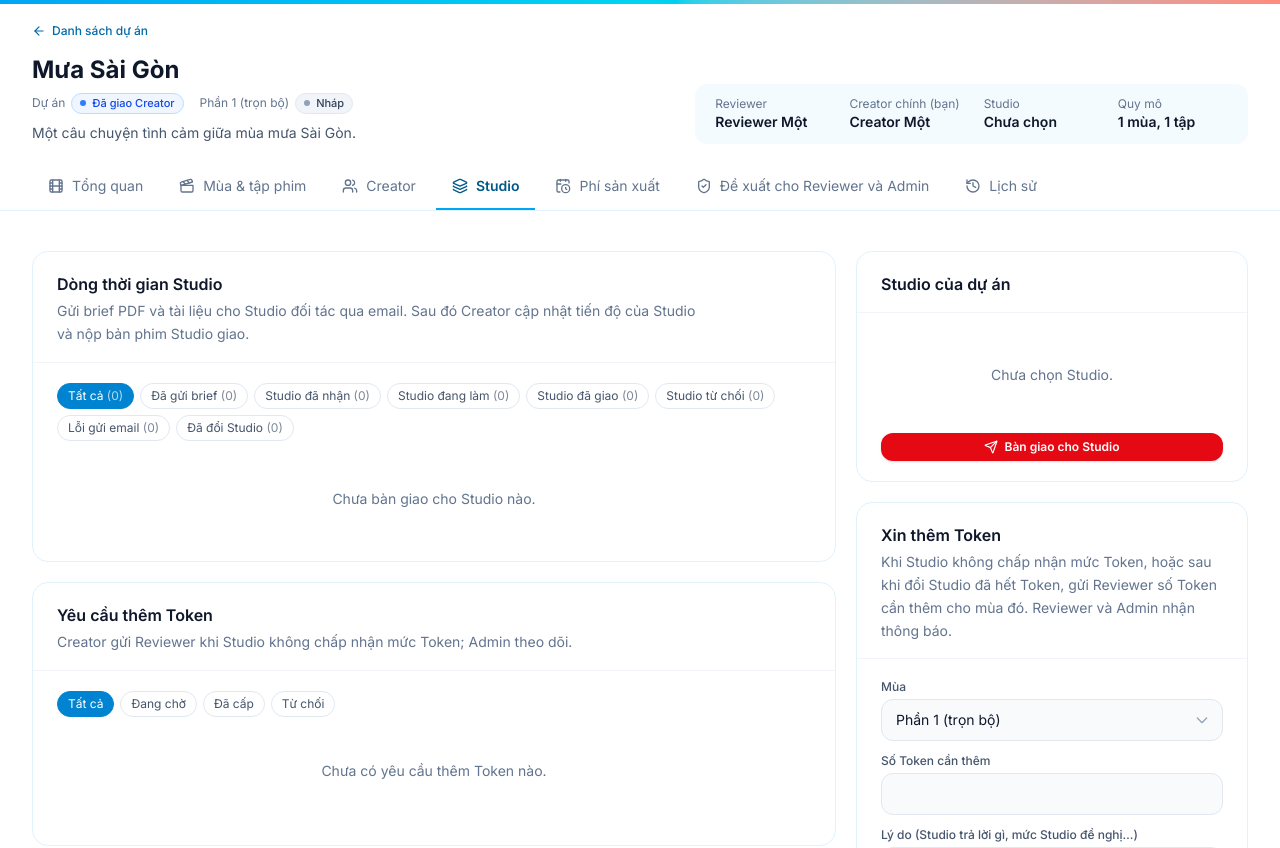
Test: ProjectDetailPage › offers the assigned Creator the studio hand-off, with the studio typed by hand
Click the button "Bàn giao cho Studio" at (1052, 447), box [881,433,1223,461]
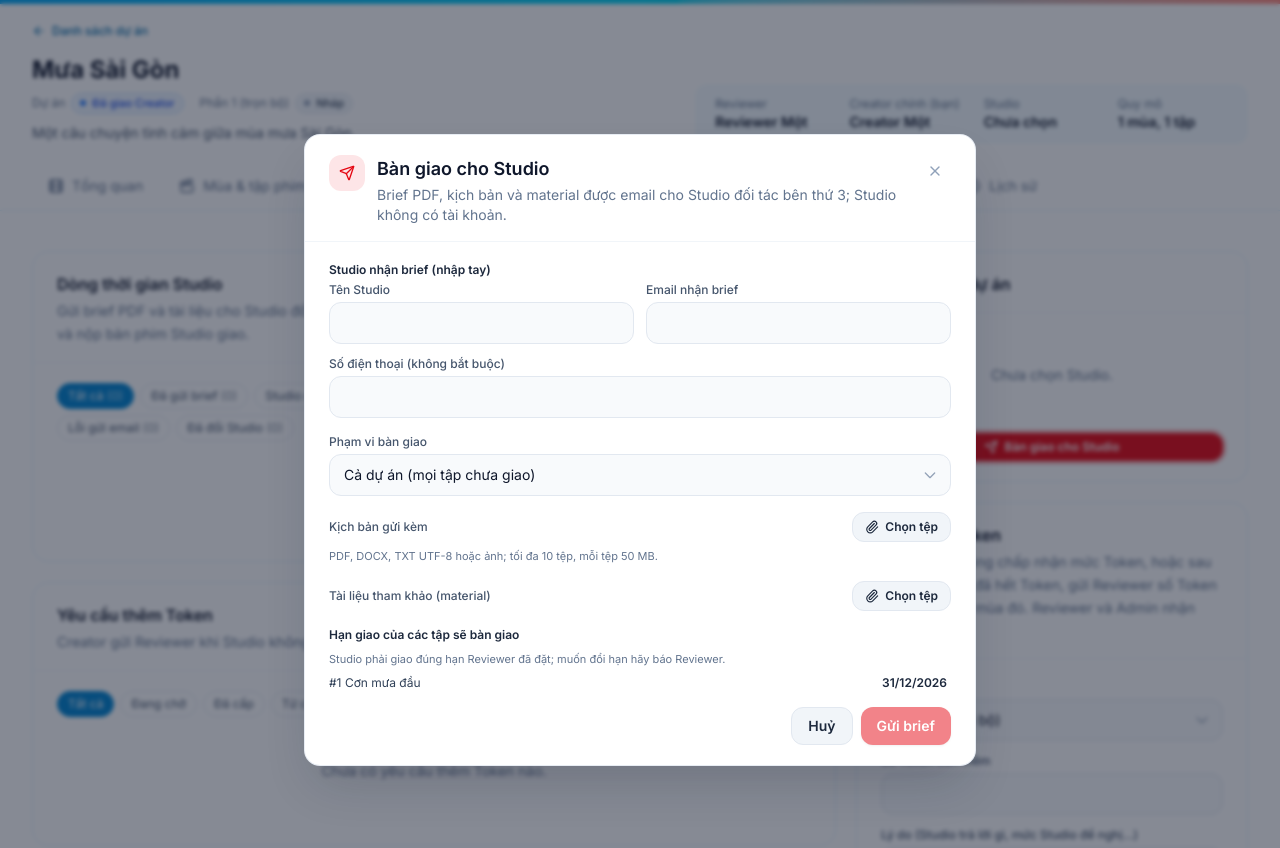
expect the dialog shows "Hạn giao của các tập sẽ bàn giao": met, box [329,626,519,642]
expect the dialog shows "31/12/2026": met, box [882,675,947,690]
expect the button "Gửi brief" is disabled: met, box [860,707,951,745]
Type "Studio Ánh Trăng" into the field labelled "Tên Studio" at (482, 323), box [329,302,634,344]
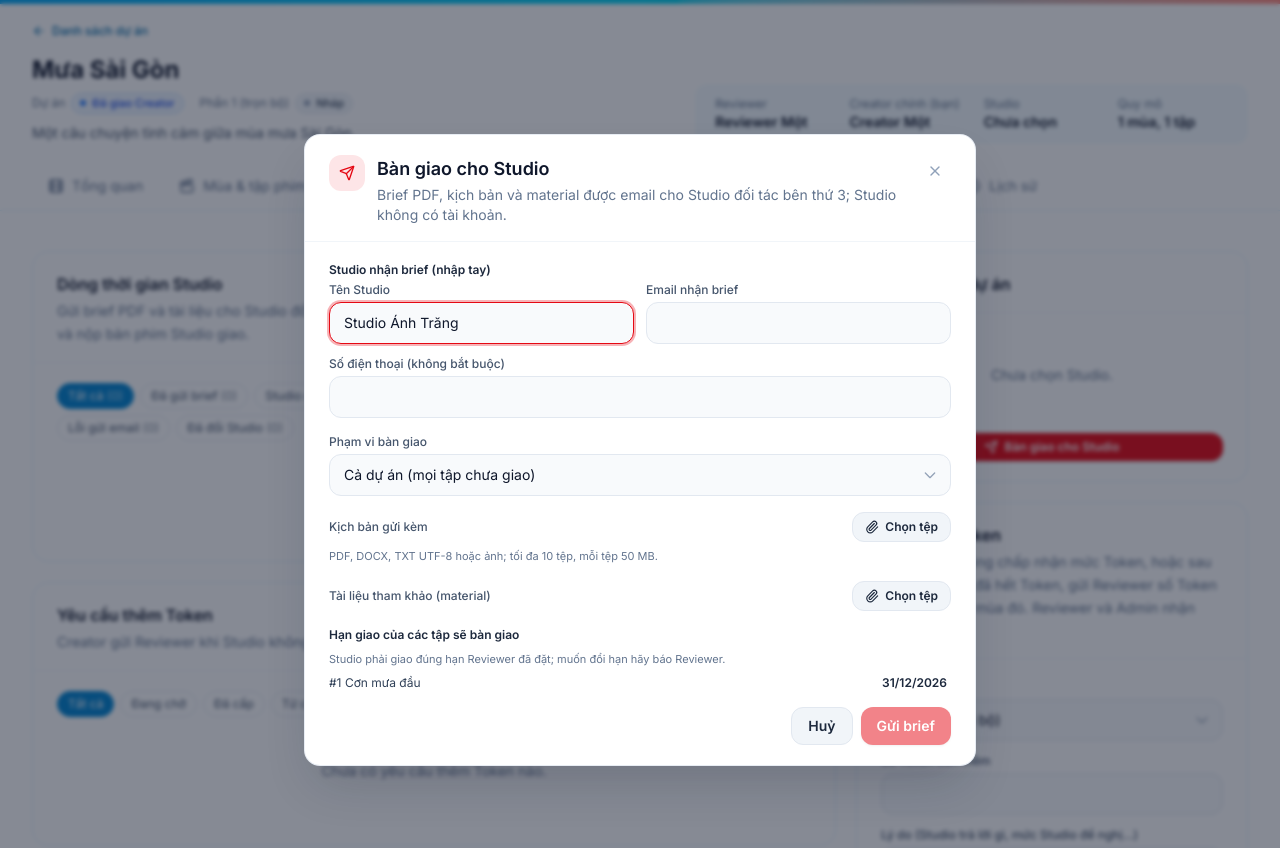
expect the button "Gửi brief" is disabled: met, box [860,707,951,745]
Type "contact@anhtrang.studio" into the field named "Email Studio" at (798, 323), box [646,302,951,344]
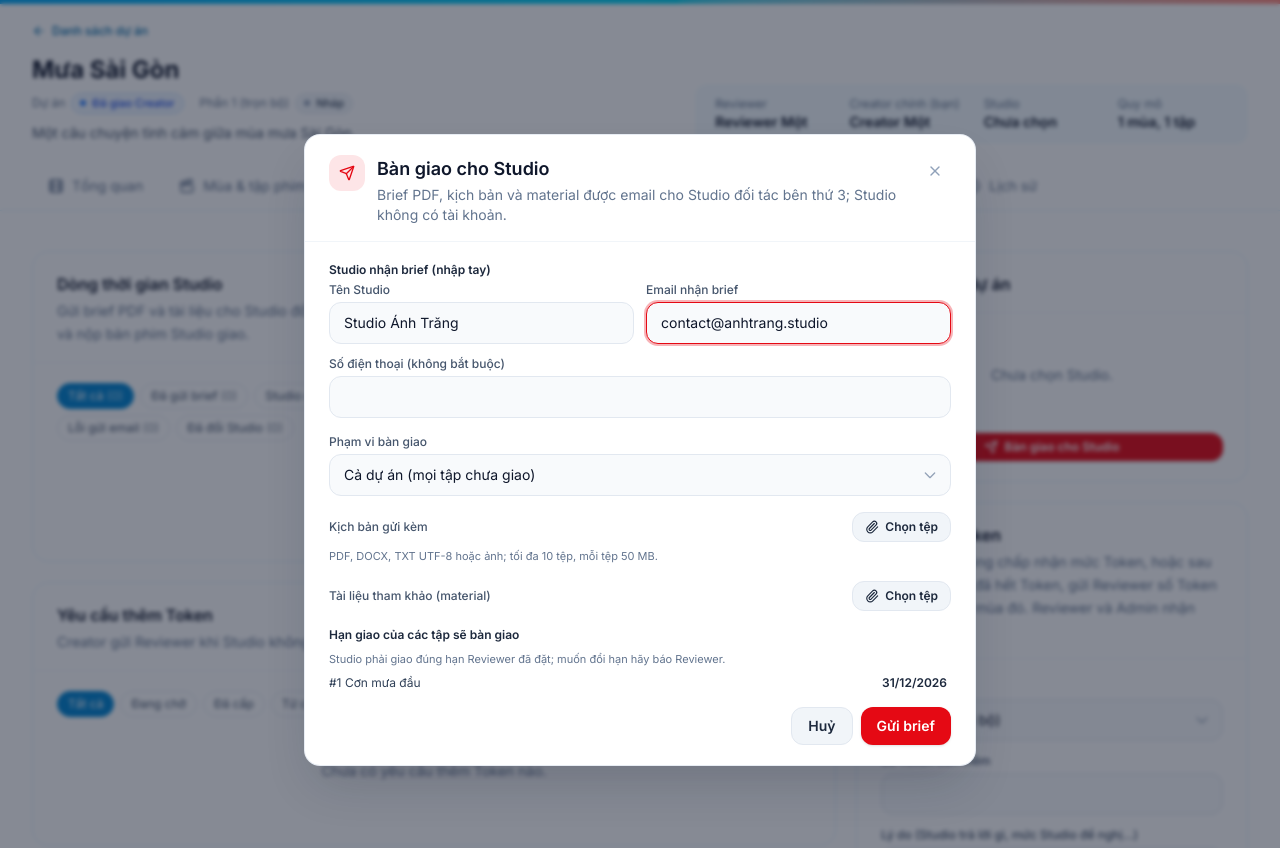
expect the button "Gửi brief" is enabled: met, box [860,707,951,745]
